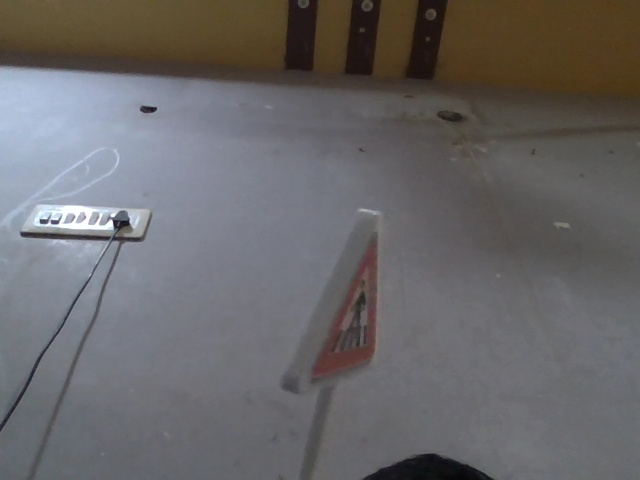crossing: (283, 211, 396, 398)
